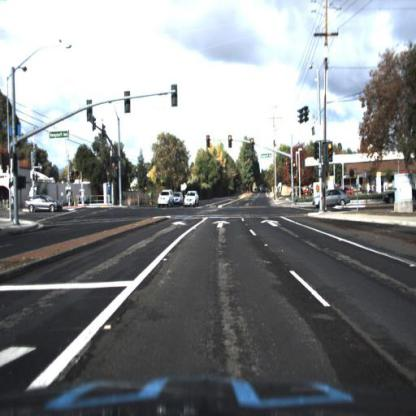biker: (150, 191, 154, 208)
car: (27, 190, 68, 215), (383, 181, 416, 208), (311, 187, 347, 209), (184, 186, 200, 210), (157, 187, 173, 208), (174, 191, 184, 208)
trafficLight-Red: (327, 141, 334, 164), (291, 162, 299, 179), (228, 134, 235, 151), (328, 142, 333, 165), (250, 137, 257, 153), (206, 133, 211, 149), (227, 133, 232, 149), (251, 137, 256, 153), (293, 162, 298, 178), (206, 137, 211, 150)
trafficLight-RedLeft: (115, 163, 122, 181)
